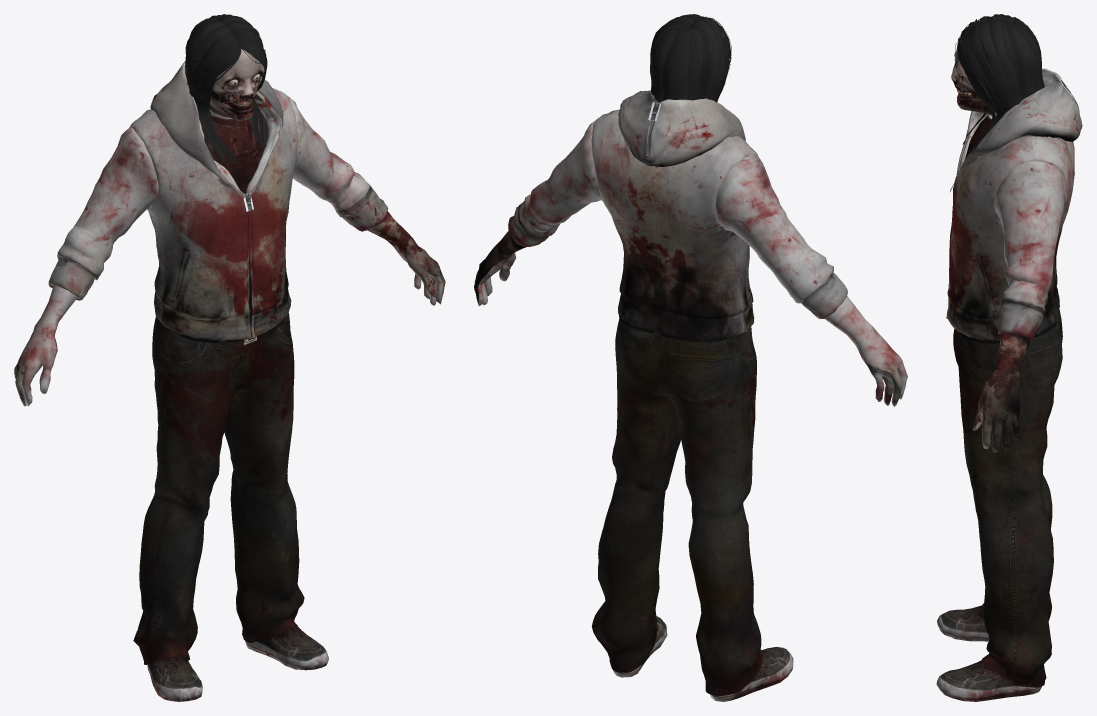
The model's file is killer.gltf.
3 views of the same model, side by side, from view 1: azimuth 30°, elevation 25°; view 2: azimuth 150°, elevation 25°; view 3: azimuth 270°, elevation 25° (orthographic).
Visible parts, largest first — view 1: Object_9, Object_6, Object_8, Object_12, Object_13, Object_2; view 2: Object_9, Object_6, Object_12, Object_13, Object_8; view 3: Object_9, Object_6, Object_12, Object_8, Object_13, Object_2.
Part boxes in pixels (x1,y1,x2,y2): Object_9: (48, 61, 388, 340); Object_6: (133, 313, 304, 664); Object_8: (147, 107, 328, 701); Object_12: (185, 14, 267, 164); Object_13: (14, 211, 445, 406); Object_2: (209, 49, 264, 120); Object_9: (508, 90, 847, 341); Object_6: (591, 318, 762, 695); Object_12: (650, 14, 731, 102); Object_13: (474, 231, 907, 406); Object_8: (613, 616, 793, 701); Object_9: (946, 68, 1082, 343); Object_6: (953, 309, 1062, 687); Object_12: (955, 14, 1044, 153); Object_8: (936, 115, 1052, 701); Object_13: (973, 332, 1030, 452); Object_2: (951, 40, 995, 115).
Size of what is drawn, in the model's own units: 47.5 by 69.84 by 14.28.
Materials: 13 (10 with a texture image).
